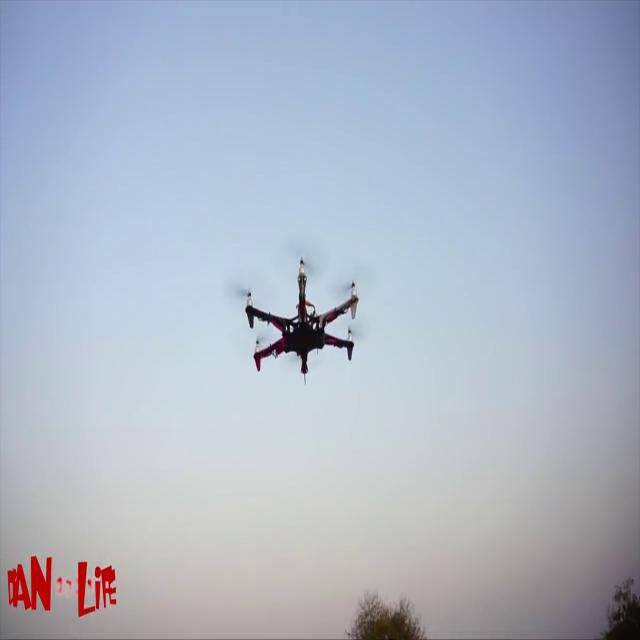drone: (192, 248, 388, 395)
